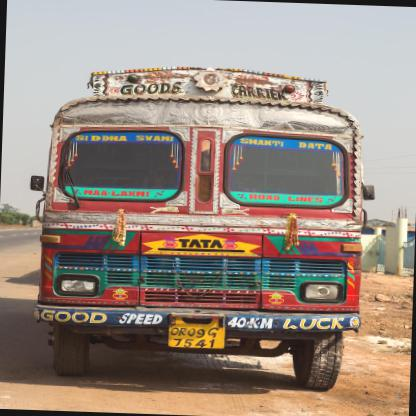truck: (37, 63, 372, 399)
